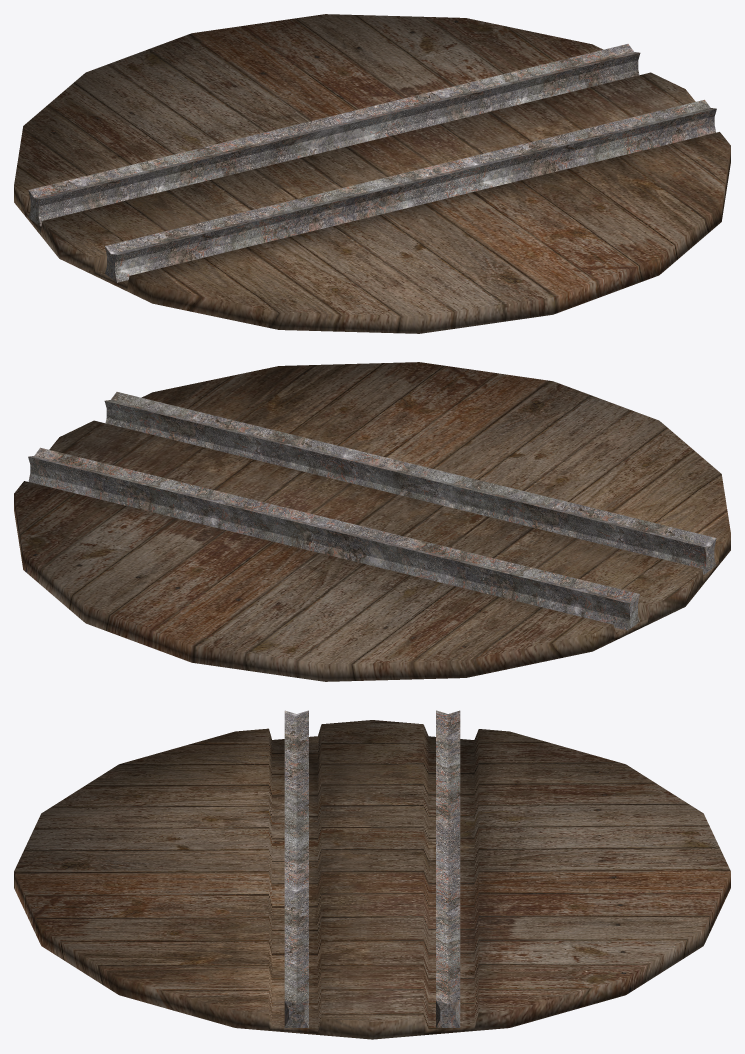
File: Turnout.fbx
3 views of the same model, one above another, from view 1: azimuth 30°, elevation 25°; view 2: azimuth 150°, elevation 25°; view 3: azimuth 270°, elevation 25° (orthographic).
Parts seen in each view (by area): view 1: Rotunda, Rail; view 2: Rotunda, Rail; view 3: Rotunda, Rail.
Boxes of the visible parts, x1,y1,x2,y2 form: Rotunda: (14,14,730,333); Rail: (28,44,716,282); Rotunda: (14,362,730,681); Rail: (28,392,716,630); Rotunda: (14,720,730,1039); Rail: (284,710,460,1027).
Bounding box in the file's own units: 345 × 17.35 × 345.
Materials: 2 (2 with a texture image).
